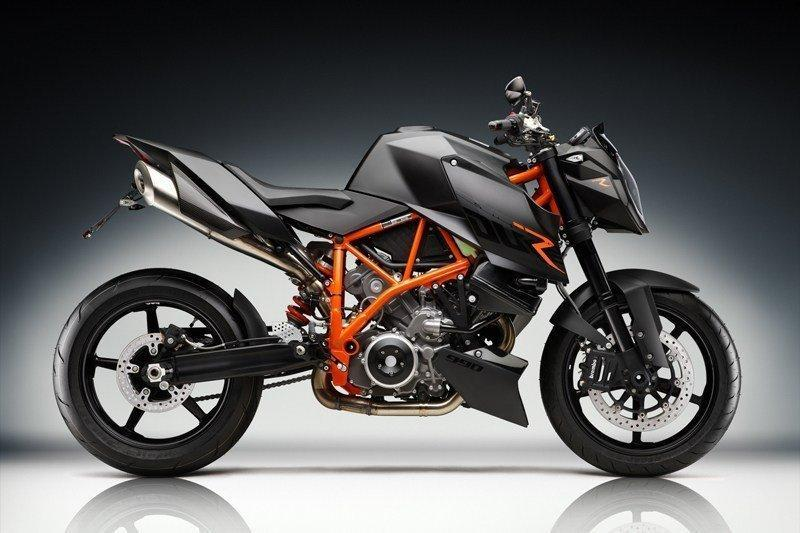motorbike: (54, 72, 741, 478)
